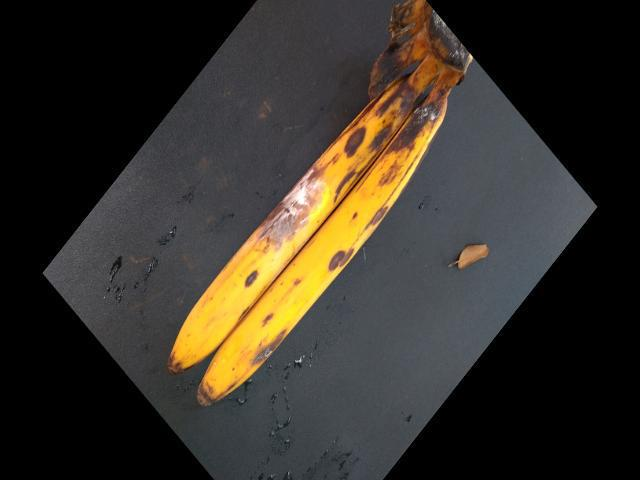ripe: (186, 114, 451, 425)
rotten: (157, 75, 420, 360)
